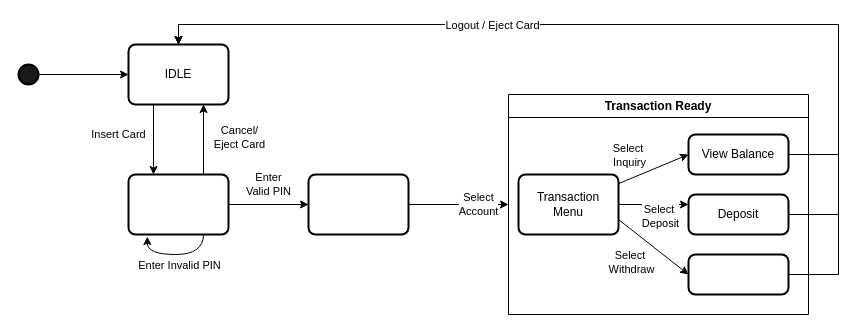
This 864x332 diagram has some shape labels left out. The shapes that lost their labels are listed below. From the top down, each one's centre as x and y in pixels, then its label:
At point 178,204: "Authenticating".
At point 358,204: "Account Selection".
At point 738,274: "Withdraw".
